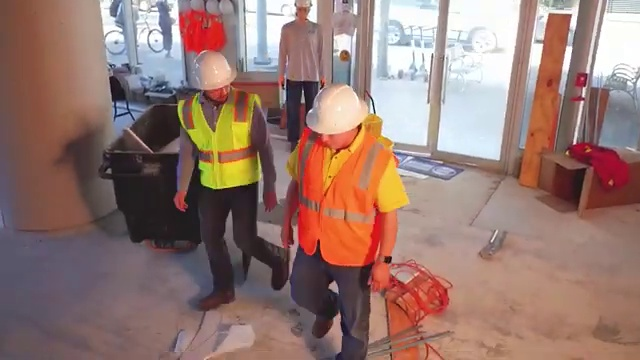helmet: (292, 85, 383, 136), (176, 43, 250, 92)
jacket: (288, 146, 390, 274), (174, 99, 272, 186)
